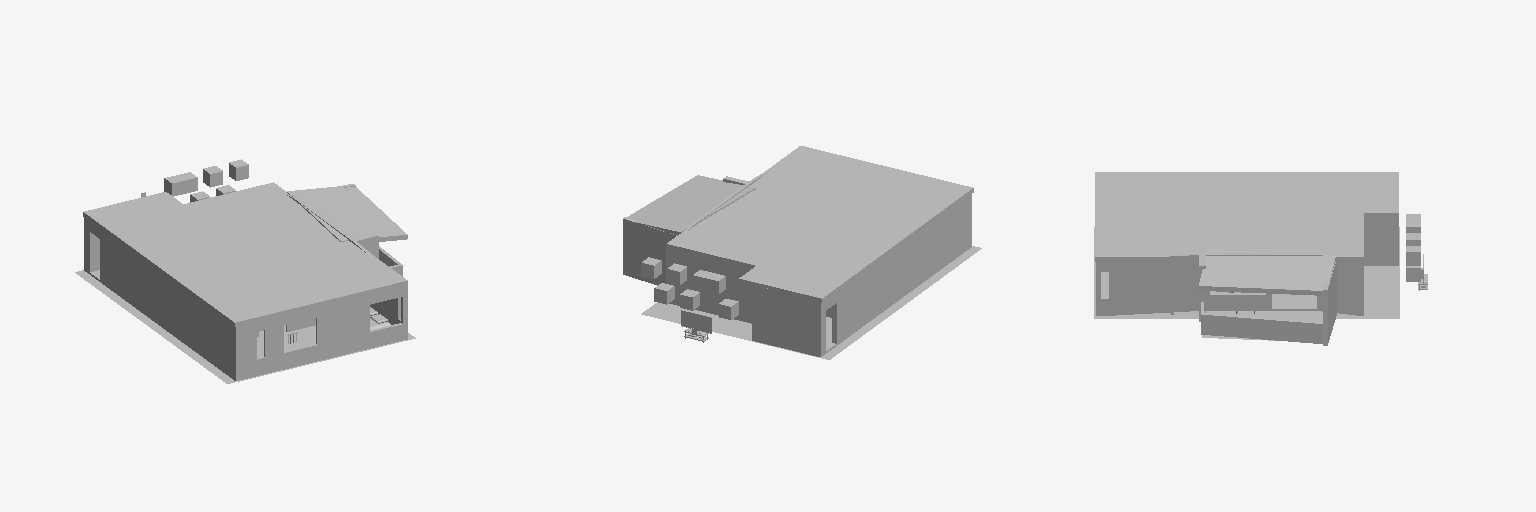
The model's file is OttoBrandt_2019-01-15.obj.
The picture shows the model from 3 angles: view 1: azimuth 30°, elevation 25°; view 2: azimuth 150°, elevation 25°; view 3: azimuth 270°, elevation 25°; orthographic projection.
Visible parts, largest first — view 1: roof_Cube.002, wall_outer_Cube, Plane; view 2: roof_Cube.002, wall_outer_Cube, Plane, bedroom_desk.001_Cube.016; view 3: roof_Cube.002, wall_outer_Cube, Plane.
Part boxes in pixels (left/top/right/bottom): roof_Cube.002: left=83, top=182, right=407, bottom=326; wall_outer_Cube: left=84, top=184, right=407, bottom=380; Plane: left=75, top=270, right=415, bottom=383; roof_Cube.002: left=628, top=146, right=973, bottom=302; wall_outer_Cube: left=623, top=172, right=971, bottom=356; Plane: left=641, top=246, right=981, bottom=359; bedroom_desk.001_Cube.016: left=681, top=310, right=711, bottom=342; roof_Cube.002: left=1095, top=172, right=1398, bottom=295; wall_outer_Cube: left=1096, top=218, right=1398, bottom=345; Plane: left=1094, top=227, right=1399, bottom=340.
Bounding box in the file's own units: 11.35 × 2.79 × 15.05.